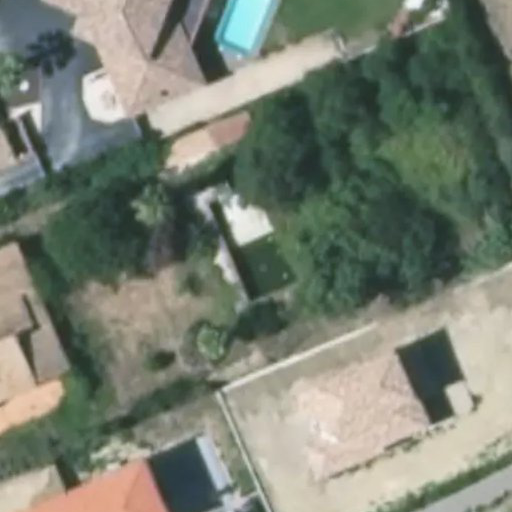pool: (209, 203, 300, 280)
